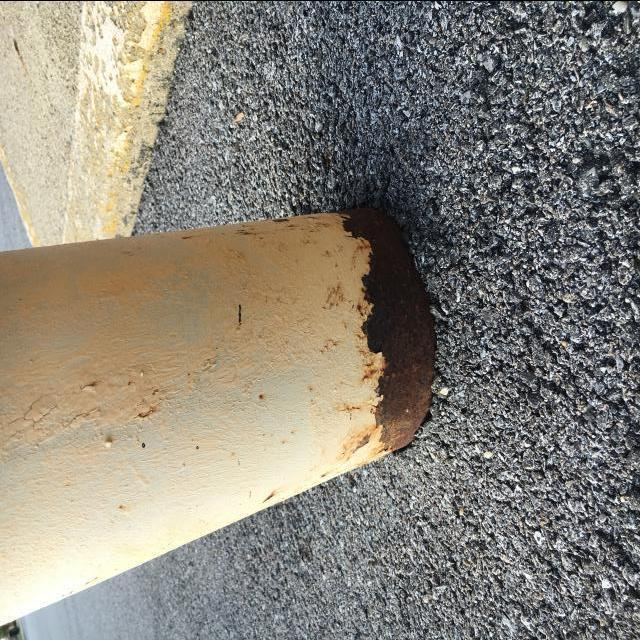Uniform Corrosion: (344, 209, 434, 450)
